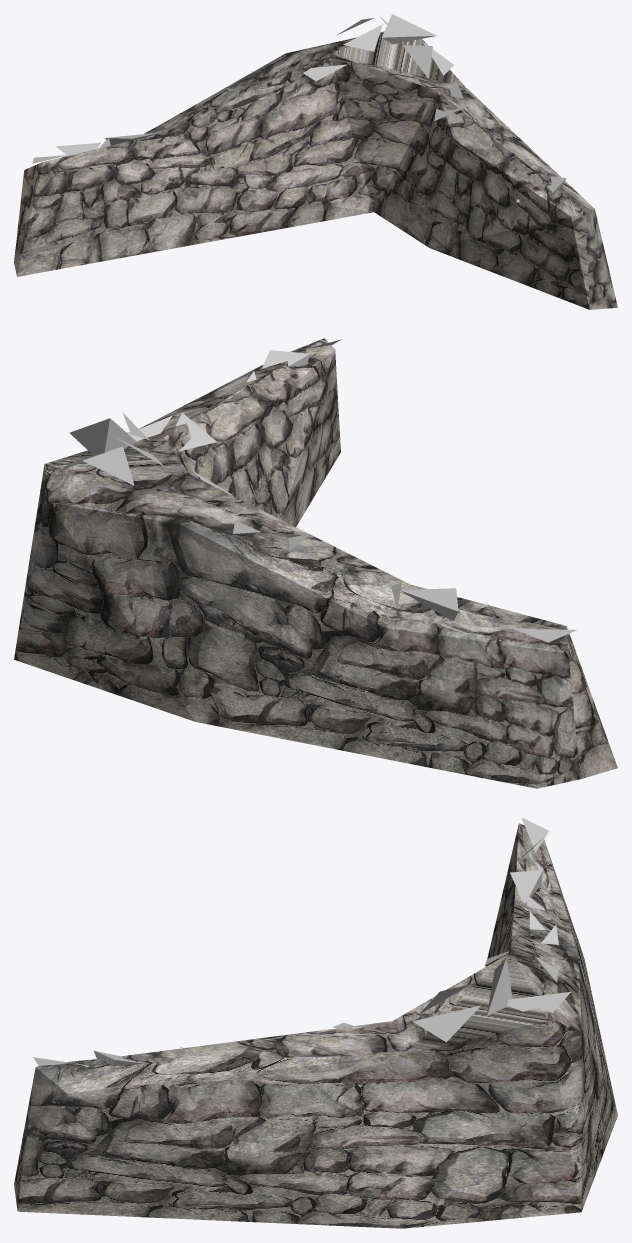
The model's file is Wall_3_LOD4.fbx.
3 renders of one model, top to bottom at view 1: azimuth 30°, elevation 25°; view 2: azimuth 150°, elevation 25°; view 3: azimuth 270°, elevation 25°, orthographic. The views are drawn at different scales.
Parts seen in each view (by area): view 1: Wall, Rock; view 2: Wall, Rock; view 3: Wall, Rock.
Boxes of the visible parts, x1,y1,x2,y2 form: Wall: [14, 31, 617, 309]; Rock: [33, 14, 581, 216]; Wall: [14, 338, 617, 788]; Rock: [61, 339, 576, 642]; Wall: [14, 823, 617, 1228]; Rock: [33, 817, 570, 1067].
Bounding box in the file's own units: 797 × 702 × 291.
